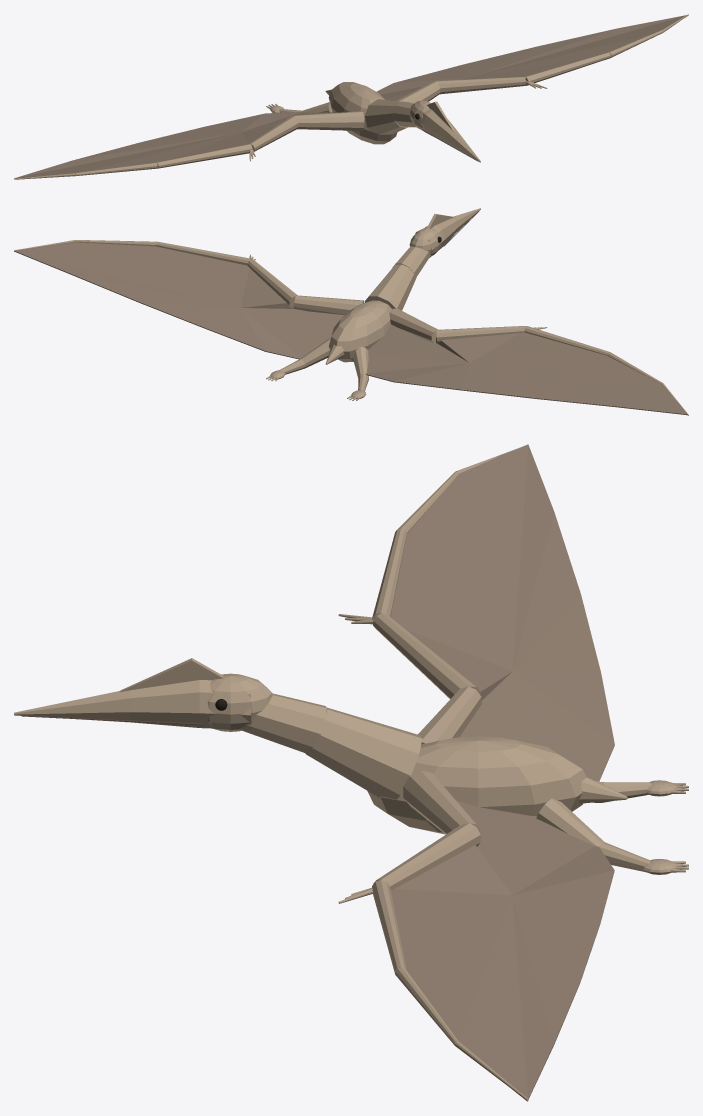
3 renders of one model, top to bottom at view 1: azimuth 30°, elevation 25°; view 2: azimuth 150°, elevation 25°; view 3: azimuth 270°, elevation 25°, orthographic. The views are drawn at different scales.
Parts seen in each view (by area): view 1: darker_opaque_membrane, warm_taupe_skin; view 2: darker_opaque_membrane, warm_taupe_skin; view 3: darker_opaque_membrane, warm_taupe_skin.
Boxes of the visible parts, <box> form: darker_opaque_membrane: <box>14,15,688,178</box>; warm_taupe_skin: <box>14,14,688,179</box>; darker_opaque_membrane: <box>14,242,688,415</box>; warm_taupe_skin: <box>14,208,688,415</box>; darker_opaque_membrane: <box>390,444,614,1101</box>; warm_taupe_skin: <box>14,450,688,1100</box>.
Bounding box in the file's own units: 1 × 0.124 × 0.436.
